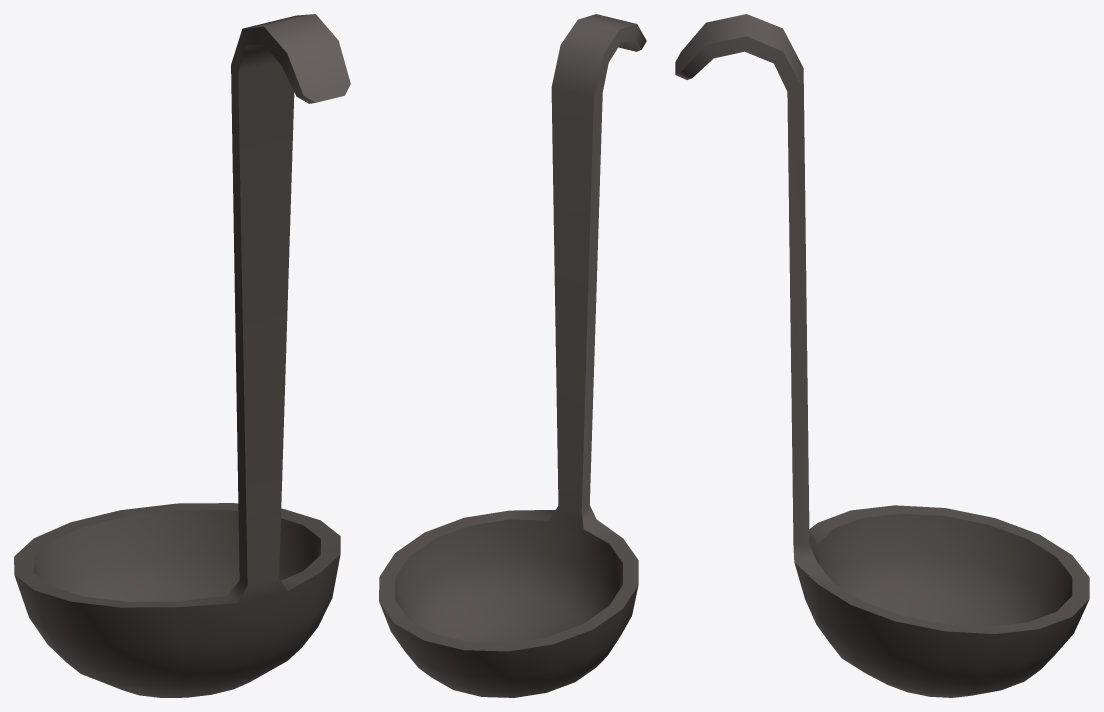
The model's file is Ladle.fbx.
The picture shows the model from 3 angles, left to right: view 1: azimuth 30°, elevation 25°; view 2: azimuth 150°, elevation 25°; view 3: azimuth 270°, elevation 25°; orthographic projection. The views are drawn at different scales.
Parts seen in each view (by area): view 1: Ladle; view 2: Ladle; view 3: Ladle.
Boxes of the visible parts, x1,y1,x2,y2 form: Ladle: [14, 14, 350, 697]; Ladle: [379, 14, 646, 697]; Ladle: [675, 14, 1089, 697].
Bounding box in the file's own units: 12.5 × 30.89 × 17.74.
